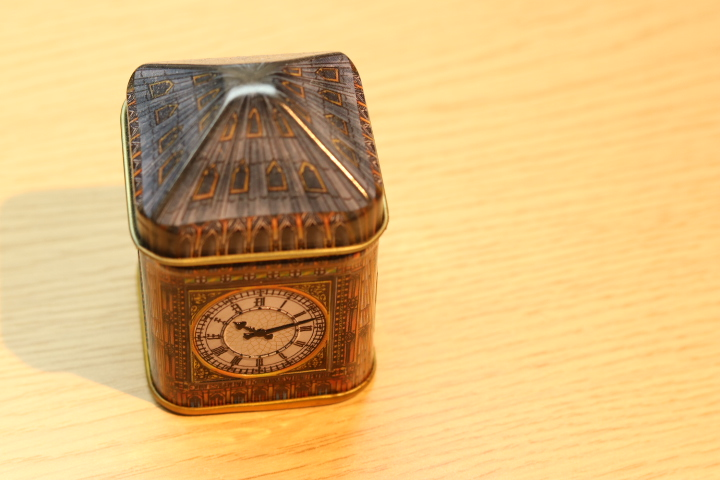Big Ben: (97, 38, 404, 427)
